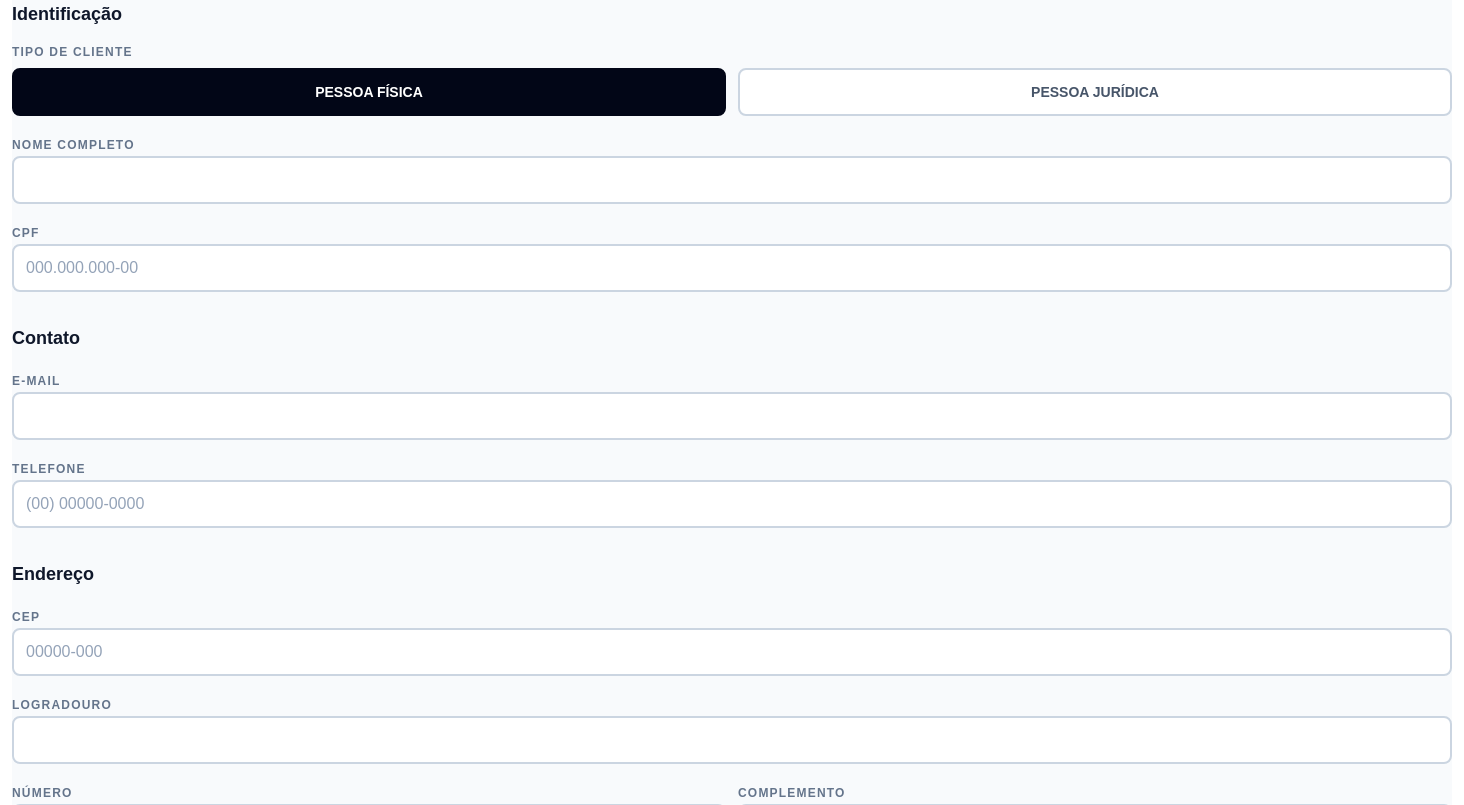
Test case: CustomerForm › mostra nome fantasia para PJ
Click the radio button labelled "Pessoa jurídica" at (1095, 92), box x1=738 y1=68 x2=1452 y2=116
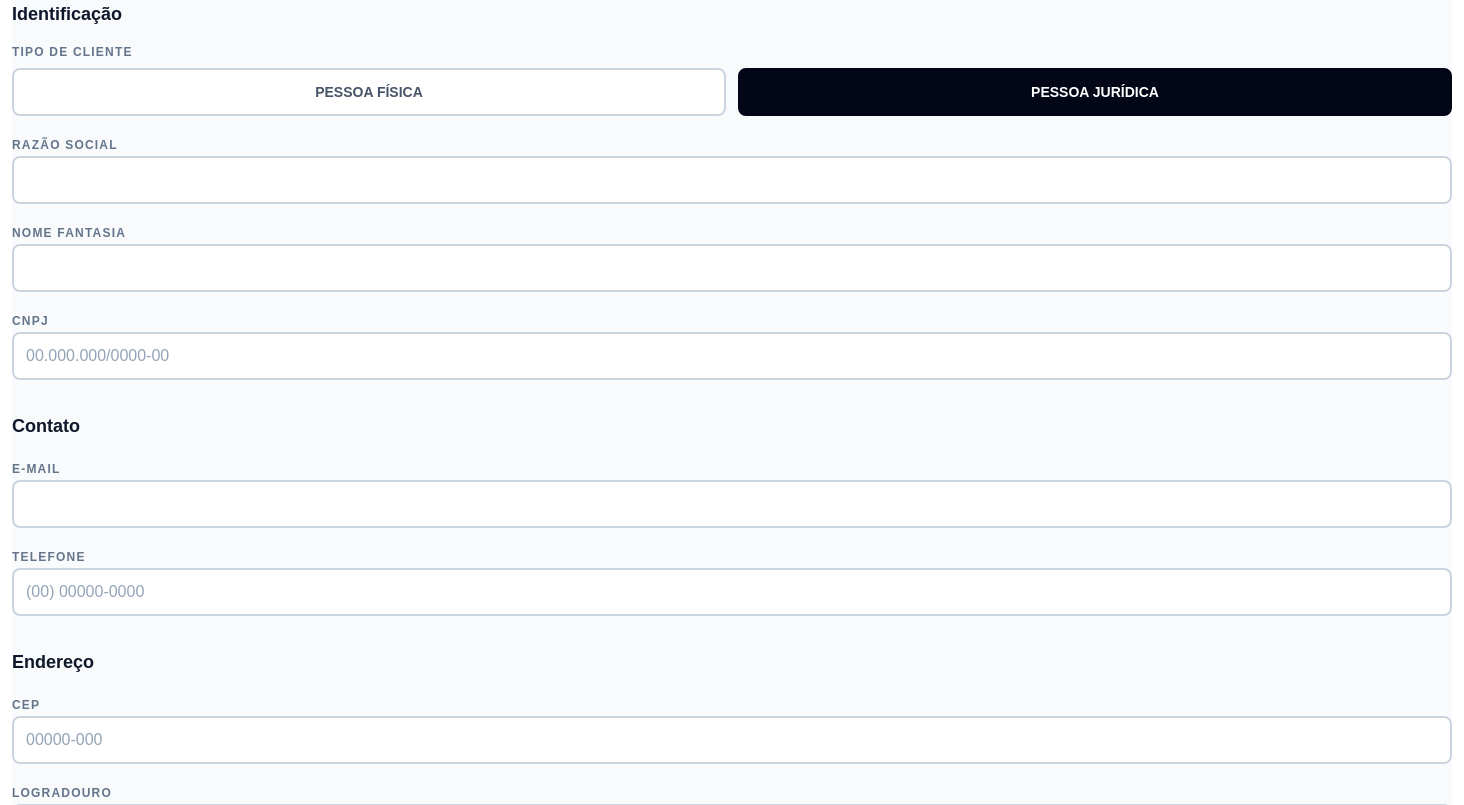
Now the field labelled "Nome fantasia" is shown, box x1=12 y1=244 x2=1452 y2=292
